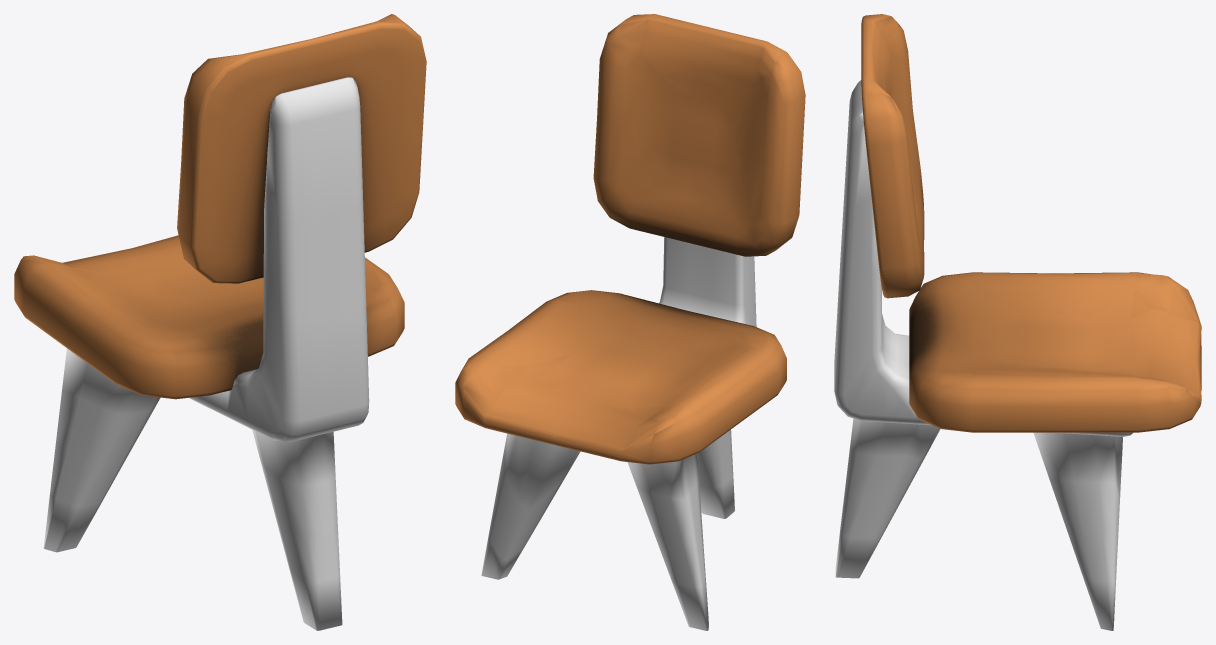
The model's file is charri.fbx.
The picture shows the model from 3 angles, left to right: view 1: azimuth 30°, elevation 25°; view 2: azimuth 150°, elevation 25°; view 3: azimuth 270°, elevation 25°; orthographic projection. The views are drawn at different scales.
Visible parts, largest first — view 1: Cube.002, Cube.001, Cube; view 2: Cube.001, Cube, Cube.002; view 3: Cube, Cube.002, Cube.001.
Part boxes in pixels (bbox=[...]): Cube.002: bbox=[43, 77, 369, 630]; Cube.001: bbox=[177, 14, 426, 283]; Cube: bbox=[14, 235, 404, 399]; Cube.001: bbox=[593, 14, 805, 256]; Cube: bbox=[455, 290, 786, 464]; Cube.002: bbox=[481, 237, 756, 630]; Cube: bbox=[909, 272, 1201, 432]; Cube.002: bbox=[834, 80, 1132, 630]; Cube.001: bbox=[861, 14, 924, 298].
Size of the model in its own units: 148 by 292 by 186.
